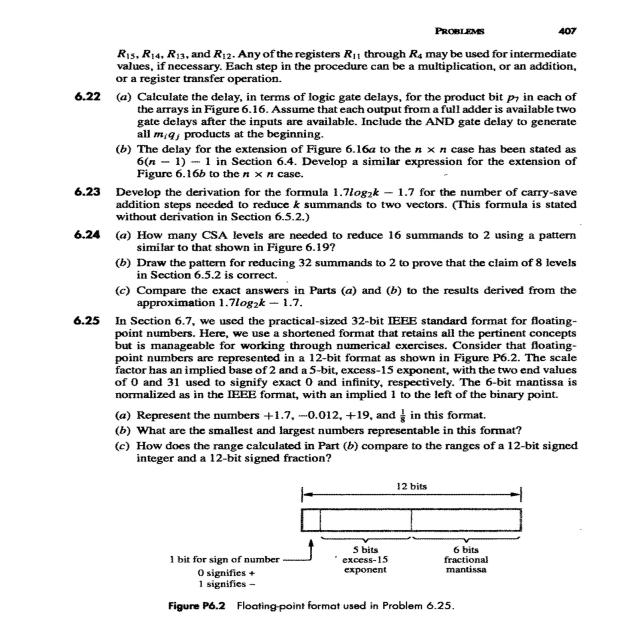diagram: (78, 471, 584, 631)
